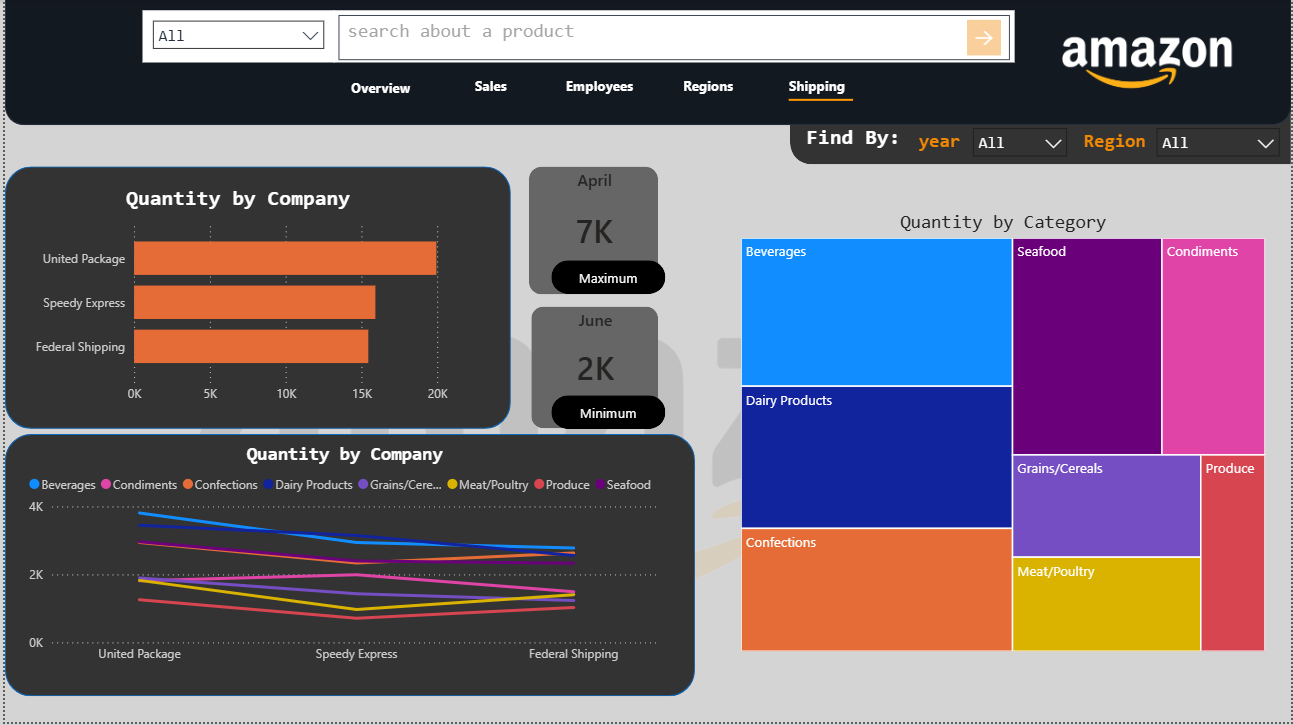

What the dashboard file says about the page in this screenshot:
{"tool":"powerbi","page":{"name":"Shipping","canvas":[1280,720],"ordinal":4},"visuals":[{"type":"shape","box":[780.6,79.1,498.5,85.1],"z":0},{"type":"shape","box":[0,0,1280.2,125.6],"z":1000},{"type":"shape","box":[780,74.3,64.3,51.4],"z":2000},{"type":"image","box":[0,126.2,1280,593.8],"z":3000},{"type":"image","box":[1046.3,13.4,180.6,98.5],"z":4000},{"type":"textSlicer","fields":{"Values":["Products.ProductName"]},"box":[327.8,11.6,677.6,52.2],"z":5000},{"type":"slicer","fields":{"Values":["Categories.CategoryName"]},"box":[136.7,11.6,191,52.2],"z":6000},{"type":"actionButton","title":"Sales","box":[428.6,65.7,108.6,40],"z":7000},{"type":"actionButton","title":"Sales","box":[320,65.7,108.6,40],"z":8000},{"type":"actionButton","title":"Sales","box":[537.1,65.7,108.6,40],"z":9000},{"type":"actionButton","title":"Sales","box":[645.7,65.7,108.6,40],"z":10000},{"type":"actionButton","title":"Sales","box":[754.3,65.7,108.6,40],"z":11000},{"type":"textbox","box":[792.5,119.4,117.9,44.8],"z":12000},{"type":"slicer","fields":{"Values":["Orders.OrderDate.Variation.Date Hierarchy.Year"]},"box":[953.1,118,114.3,48.6],"z":13000},{"type":"textbox","box":[904.6,125.1,67.1,38.6],"z":14000},{"type":"slicer","fields":{"Values":["Region.RegionDescription"]},"box":[1136,118,142.9,48.6],"z":15000},{"type":"shape","box":[0,166.7,503.3,261.1],"z":16000},{"type":"textbox","box":[1068.9,125.1,81.4,38.6],"z":17000},{"type":"barChart","title":"Quantity by Company","fields":{"Category":["Shippers.CompanyName"],"Y":["Order Details.Total Quantity"]},"box":[18.9,185.6,426.7,225.6],"z":18000},{"type":"shape","box":[521.2,166.2,128.8,127.5],"z":19000},{"type":"shape","box":[523.8,306.2,126.2,121.2],"z":20000},{"type":"shape","box":[0,433.3,686.7,261.1],"z":21000},{"type":"treemap","title":"Quantity by Category","fields":{"Group":["Categories.CategoryName"],"Values":["Order Details.Total Quantity"]},"box":[727.1,211.4,531.4,442.9],"z":22000},{"type":"lineChart","title":"Quantity by Company","fields":{"Category":["Shippers.CompanyName"],"Series":["Categories.CategoryName"],"Y":["Order Details.Total Quantity"]},"box":[18.9,442.2,638.9,228.9],"z":23000},{"type":"cardVisual","title":"Maximum Quantity","fields":{"Rows":["Orders.OrderDate.Variation.Date Hierarchy.Month"],"Data":["Order Details.Total Quantity"]},"box":[523.8,136.2,126.2,150],"z":24000},{"type":"cardVisual","fields":{"Rows":["Orders.OrderDate.Variation.Date Hierarchy.Month"],"Data":["Order Details.Total Quantity"]},"box":[526.2,277.5,123.8,141.2],"z":25000},{"type":"shape","box":[543.8,260,113.8,33.8],"z":26000},{"type":"shape","box":[543.8,393.8,113.8,33.8],"z":27000}]}

Visuals, with their boxes in screenshot pixels (x1, y1, x2, y2), scaled from the page's 1280x720 canvas onto the 1293x725 screenshot:
shape: bbox=(789, 80, 1292, 165)
shape: bbox=(0, 0, 1292, 126)
shape: bbox=(788, 75, 853, 127)
image: bbox=(0, 127, 1292, 724)
image: bbox=(1057, 13, 1239, 113)
textSlicer - Products.ProductName: bbox=(331, 12, 1016, 64)
slicer - Categories.CategoryName: bbox=(138, 12, 331, 64)
"Sales" actionButton: bbox=(433, 66, 543, 106)
"Sales" actionButton: bbox=(323, 66, 433, 106)
"Sales" actionButton: bbox=(543, 66, 652, 106)
"Sales" actionButton: bbox=(652, 66, 762, 106)
"Sales" actionButton: bbox=(762, 66, 872, 106)
textbox: bbox=(801, 120, 920, 165)
slicer - Orders.OrderDate.Variation.Date Hierarchy.Year: bbox=(963, 119, 1078, 168)
textbox: bbox=(914, 126, 982, 165)
slicer - Region.RegionDescription: bbox=(1148, 119, 1292, 168)
shape: bbox=(0, 168, 508, 431)
textbox: bbox=(1080, 126, 1162, 165)
"Quantity by Company" barChart: bbox=(19, 187, 450, 414)
shape: bbox=(526, 167, 657, 296)
shape: bbox=(529, 308, 657, 430)
shape: bbox=(0, 436, 694, 699)
"Quantity by Category" treemap: bbox=(734, 213, 1271, 659)
"Quantity by Company" lineChart: bbox=(19, 445, 664, 676)
"Maximum Quantity" cardVisual: bbox=(529, 137, 657, 288)
cardVisual - Orders.OrderDate.Variation.Date Hierarchy.Month x Order Details.Total Quantity: bbox=(532, 279, 657, 422)
shape: bbox=(549, 262, 664, 296)
shape: bbox=(549, 397, 664, 431)
